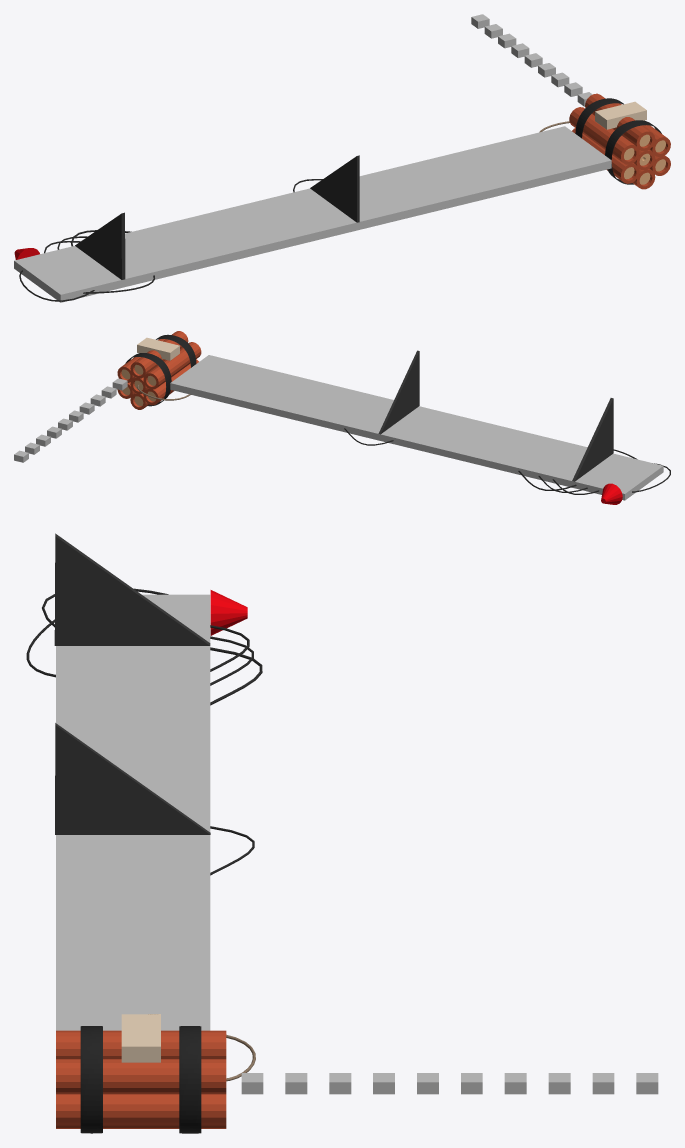
File: panel (3).fbx
The picture shows the model from 3 angles, top to bottom: view 1: azimuth 30°, elevation 25°; view 2: azimuth 150°, elevation 25°; view 3: azimuth 270°, elevation 25°; orthographic projection. The views are drawn at different scales.
Visible parts, largest first — view 1: Панель, Динамит, Разделители, Кубики, Завязки, Cube; view 2: Панель, Динамит, Разделители, Кубики, Завязки, Cube, Cone; view 3: Панель, Разделители, Динамит, Кубики, Завязки, Cube, Cone.
Boxes of the visible parts, box(x1,y1,x2,y2) form: Панель: box(14, 126, 611, 302); Динамит: box(569, 93, 670, 189); Разделители: box(75, 155, 359, 279); Кубики: box(471, 14, 592, 106); Завязки: box(575, 98, 661, 184); Cube: box(595, 101, 646, 129); Панель: box(170, 355, 663, 500); Динамит: box(117, 331, 201, 409); Разделители: box(378, 350, 613, 481); Кубики: box(14, 378, 127, 462); Завязки: box(125, 334, 196, 406); Cube: box(137, 337, 179, 360); Cone: box(601, 483, 622, 504); Панель: box(56, 594, 210, 1030); Разделители: box(54, 533, 210, 834); Динамит: box(56, 1030, 226, 1128); Кубики: box(241, 1073, 658, 1094); Завязки: box(80, 1026, 201, 1133); Cube: box(121, 1014, 160, 1062); Cone: box(210, 590, 247, 635).
Size of the model in its own units: 4942 by 785 by 2606.
